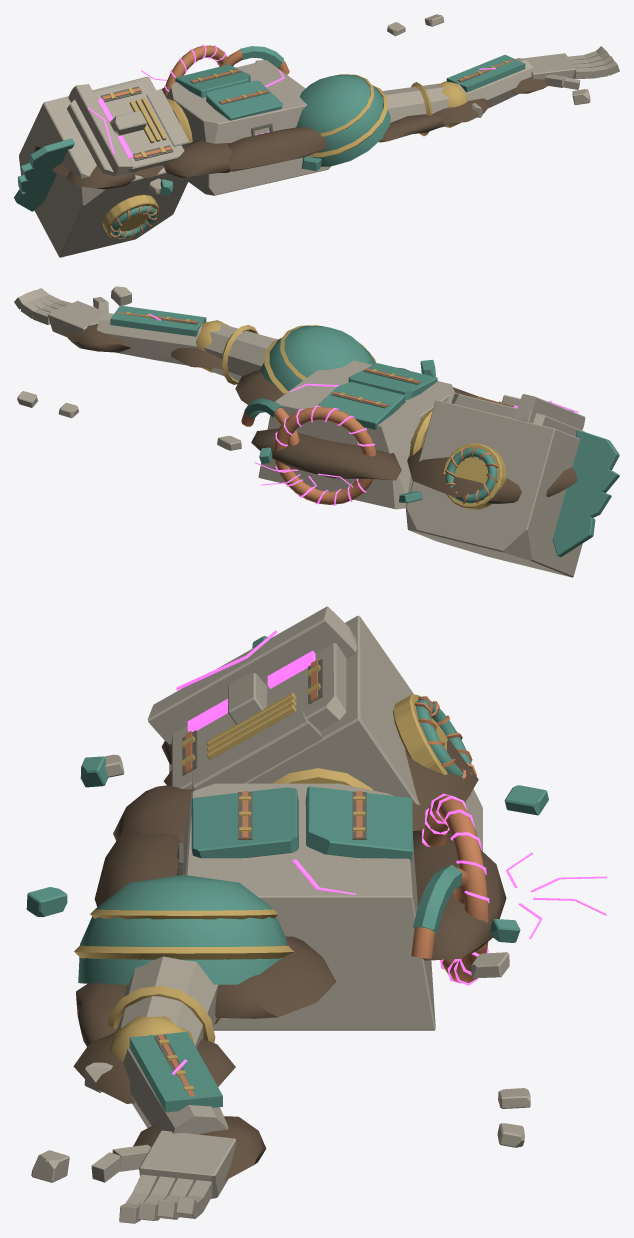
The model's file is zr_colossus_fallen.glb.
3 renders of one model, top to bottom at view 1: azimuth 30°, elevation 25°; view 2: azimuth 150°, elevation 25°; view 3: azimuth 270°, elevation 25°, orthographic. The views are drawn at different scales.
Parts seen in each view (by area): view 1: zr_colossus_fallen; view 2: zr_colossus_fallen; view 3: zr_colossus_fallen.
Boxes of the visible parts, x1,y1,x2,y2 form: zr_colossus_fallen: (14, 14, 619, 257); zr_colossus_fallen: (14, 286, 619, 577); zr_colossus_fallen: (26, 606, 607, 1223).
Size of what is drawn, in the model's own units: 32.88 by 8.99 by 14.76.
